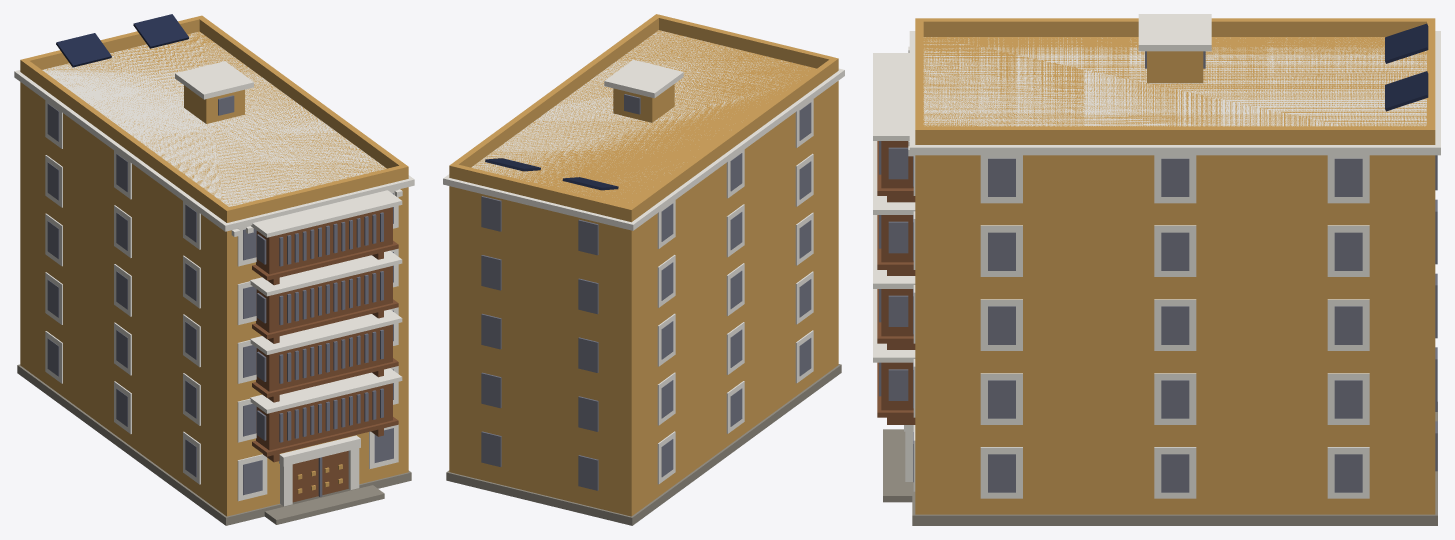
Rendered from house-1x2-5f-quincha-a-solar.glb.
3 views of the same model, side by side, from view 1: azimuth 30°, elevation 25°; view 2: azimuth 150°, elevation 25°; view 3: azimuth 270°, elevation 25° (orthographic). The views are drawn at different scales.
Parts seen in each view (by area): view 1: house-1x2-5f-quincha-a-solar; view 2: house-1x2-5f-quincha-a-solar; view 3: house-1x2-5f-quincha-a-solar.
Boxes of the visible parts, x1,y1,x2,y2 form: house-1x2-5f-quincha-a-solar: [14, 14, 414, 525]; house-1x2-5f-quincha-a-solar: [443, 14, 844, 525]; house-1x2-5f-quincha-a-solar: [873, 14, 1440, 525].
Bounding box in the file's own units: 0.98 × 1.73 × 2.02.
1 material, 1 textured.
